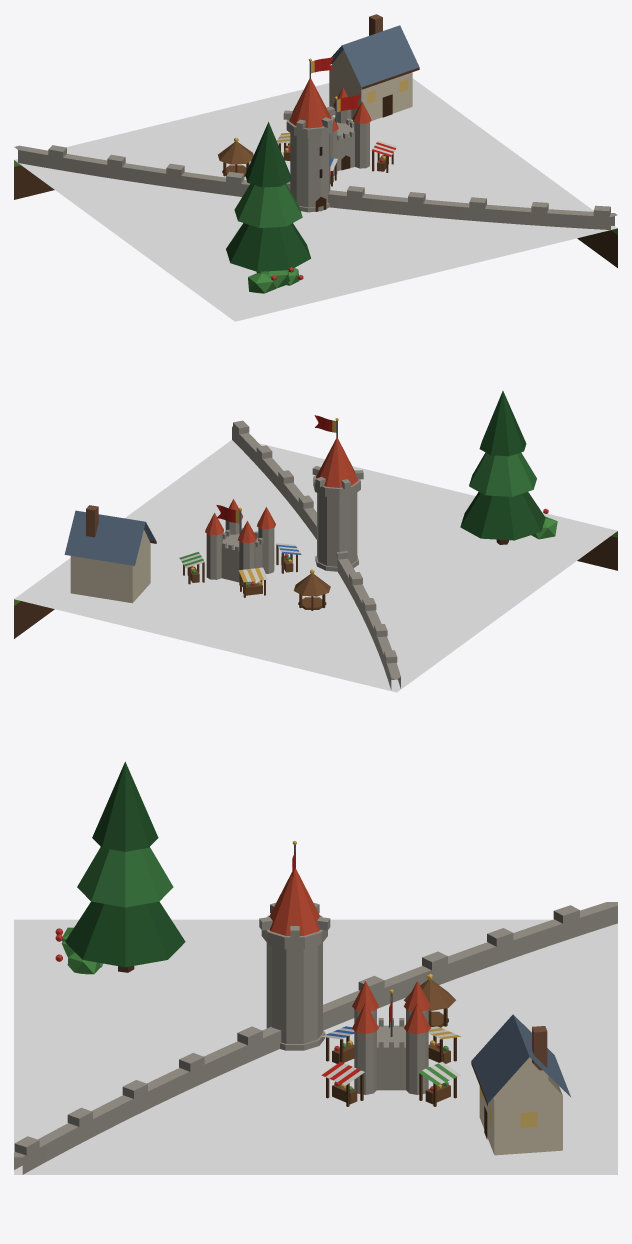
3 views of the same model, one above another, from view 1: azimuth 30°, elevation 25°; view 2: azimuth 150°, elevation 25°; view 3: azimuth 270°, elevation 25° (orthographic). The views are drawn at different scales.
Parts seen in each view (by area): view 1: c2; view 2: c2; view 3: c2.
Part boxes in pixels (box(x1,y1,x2,y2)): c2: box(14, 14, 617, 321); c2: box(14, 391, 617, 692); c2: box(14, 761, 617, 1174).
Size of the model in its own units: 2 by 0.96 by 2.
